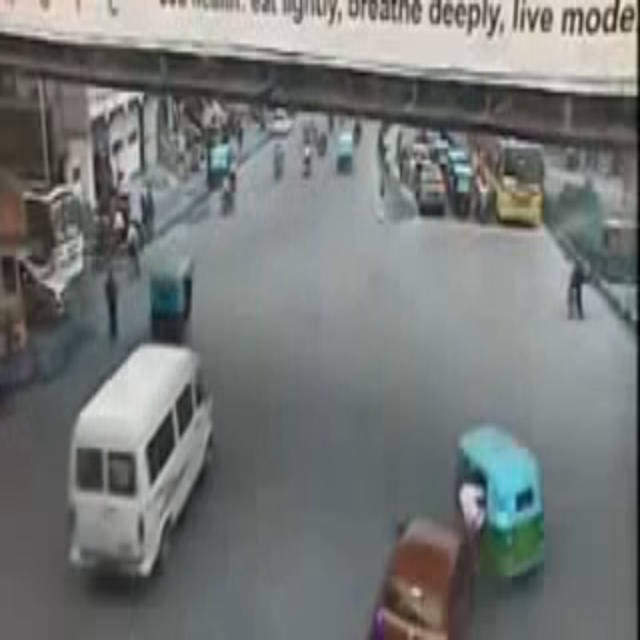acc: (366, 407, 546, 640)
